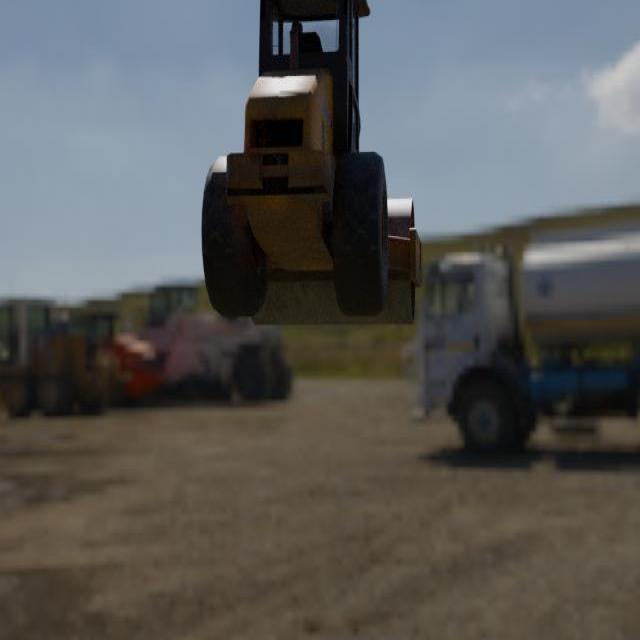Roller: (200, 0, 423, 327)
